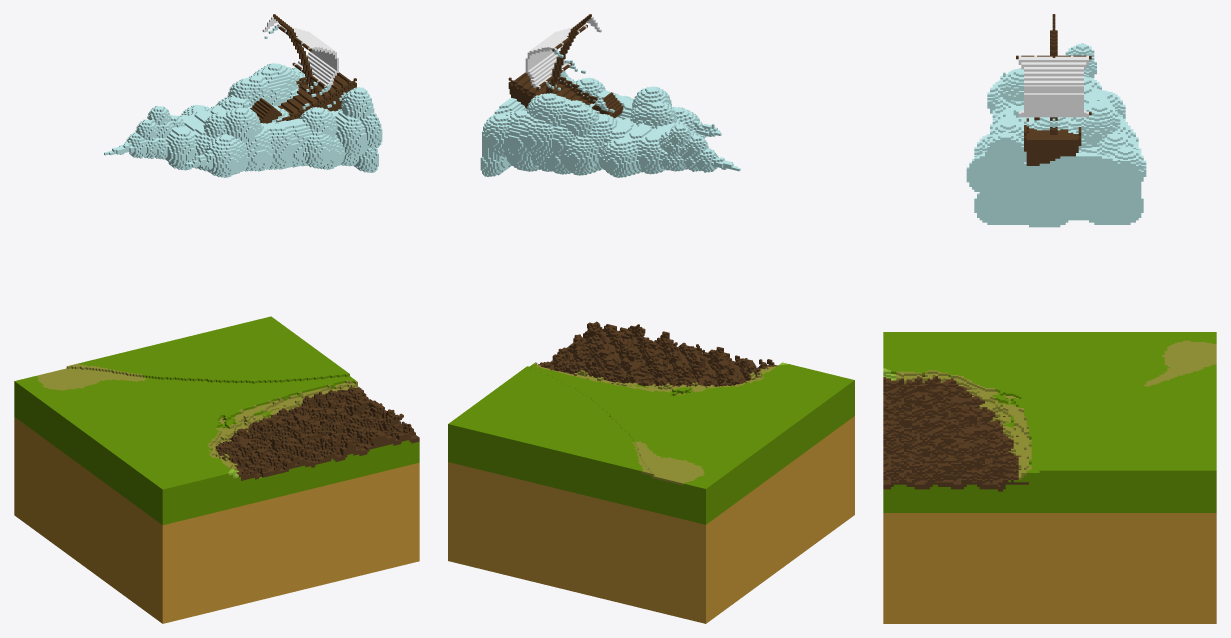
3 renders of one model, left to right at view 1: azimuth 30°, elevation 25°; view 2: azimuth 150°, elevation 25°; view 3: azimuth 270°, elevation 25°, orthographic. The views are drawn at different scales.
Visible parts, largest first — view 1: 1E.002; view 2: 1E.002; view 3: 1E.002.
Boxes of the visible parts, x1,y1,x2,y2 form: 1E.002: (14,14,419,623); 1E.002: (448,14,854,623); 1E.002: (883,14,1216,623).
Bounding box in the file's own units: 12.8 × 24.2 × 12.8.
Materials: 1 (1 with a texture image).
